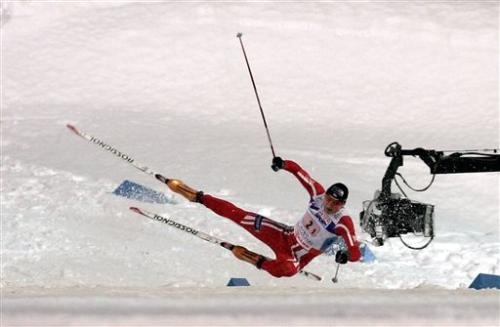falling: (145, 144, 370, 287)
